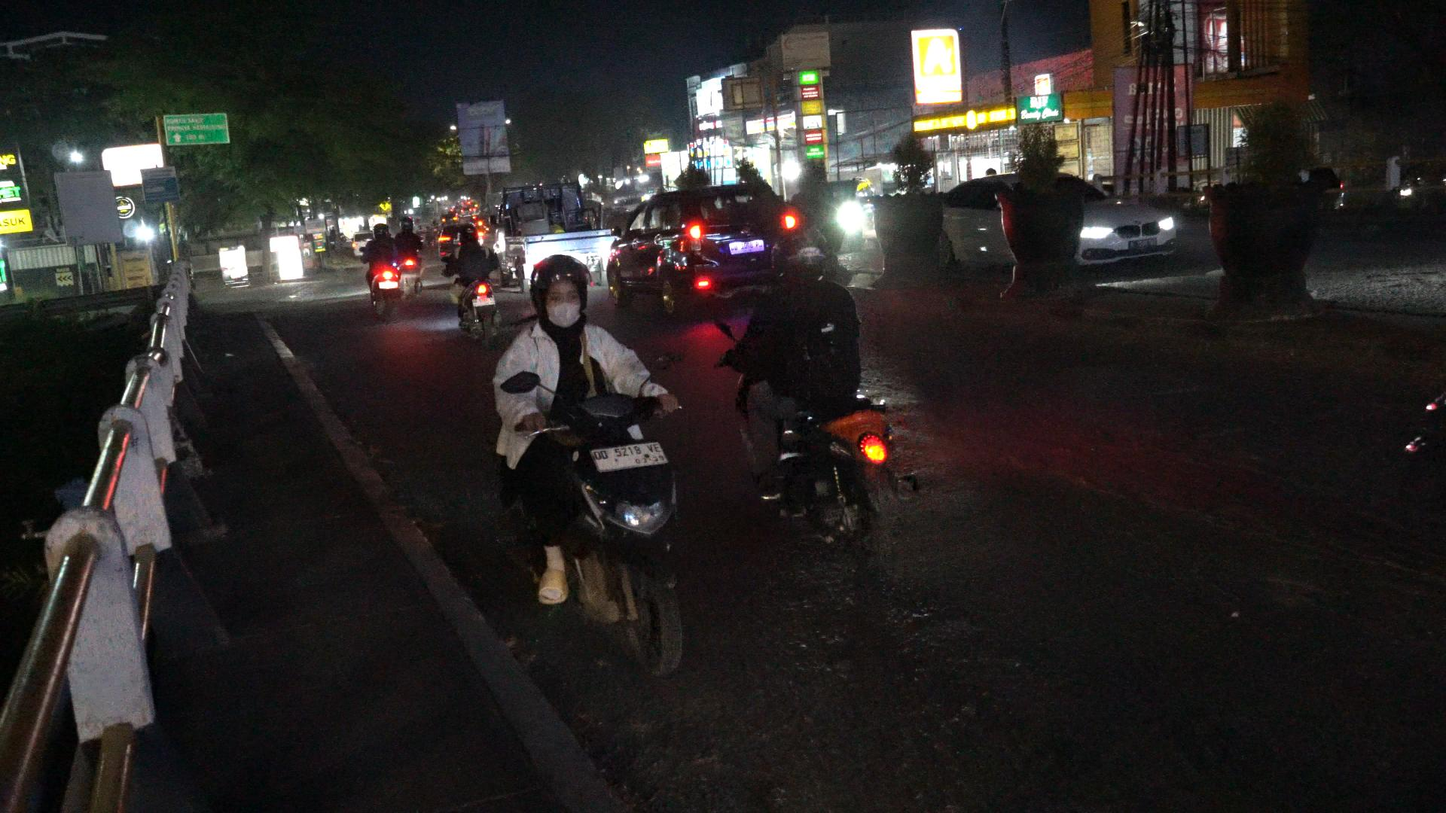number-plate: (586, 436, 673, 480)
